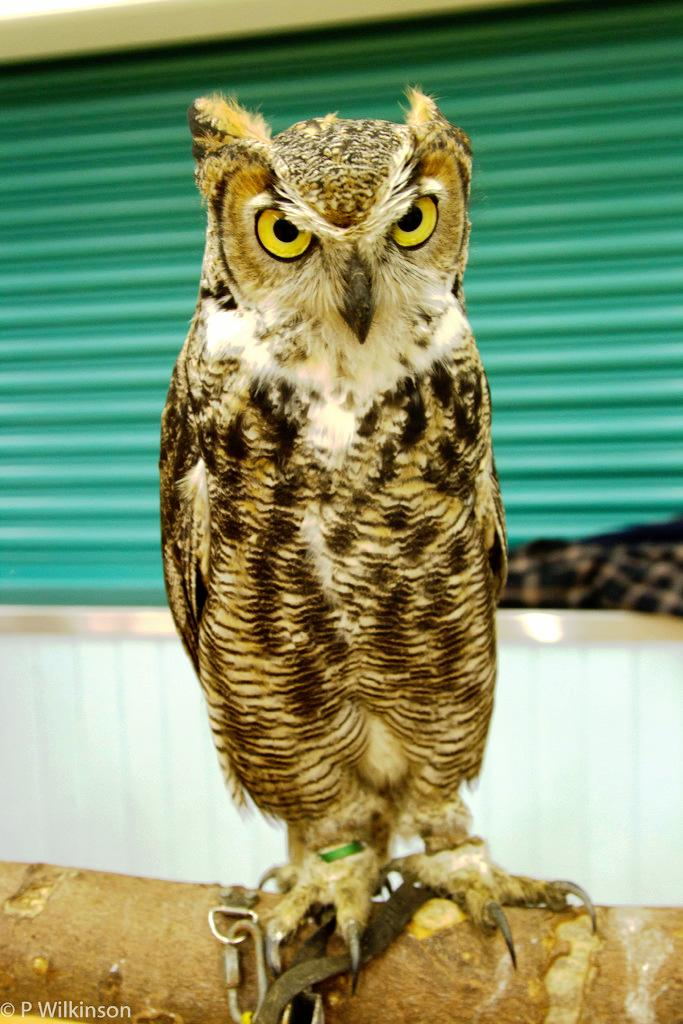Owl: (157, 80, 513, 997)
